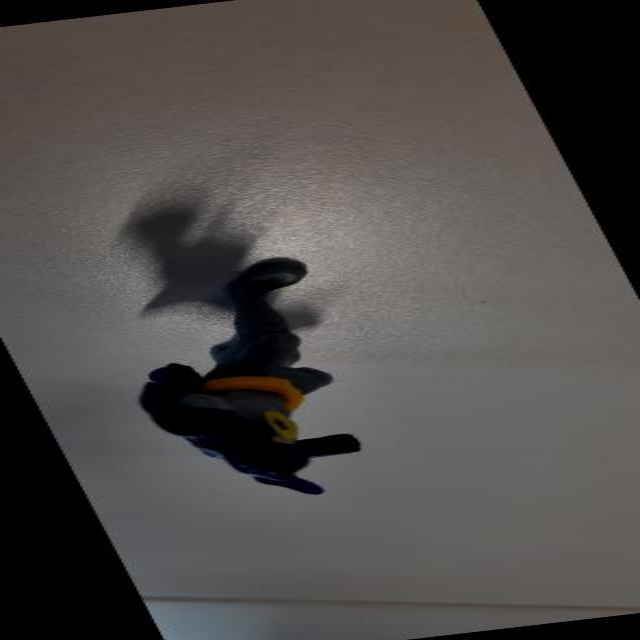Batman: (75, 249, 439, 511)
